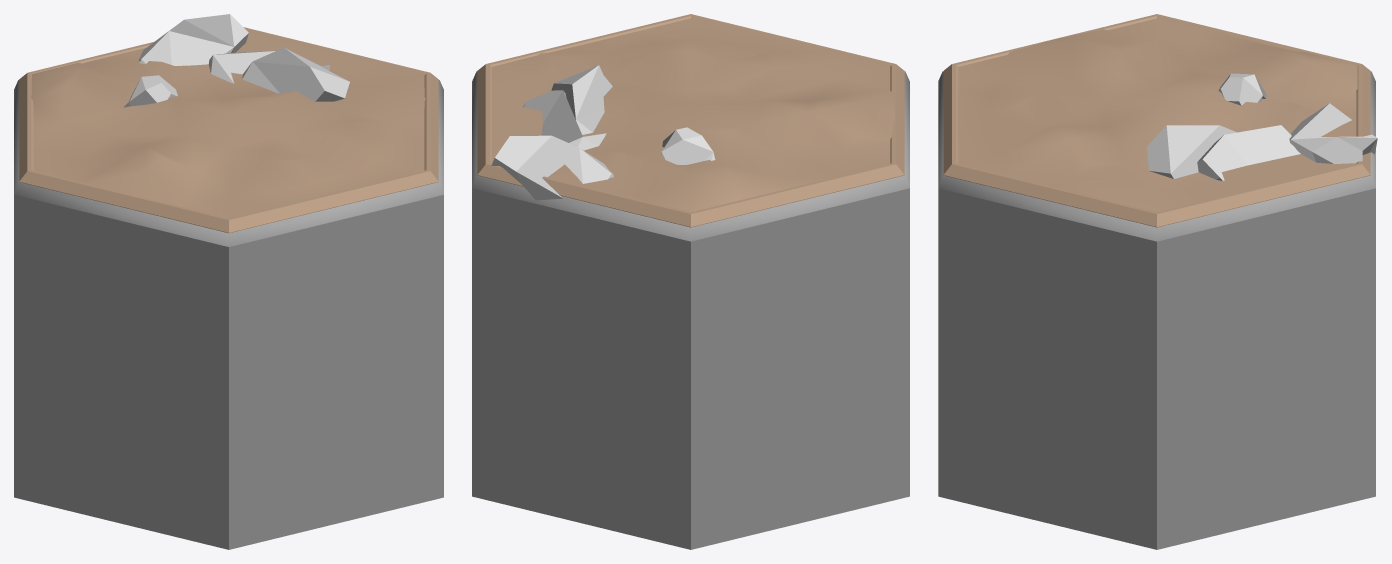
File: presentation_tile3.fbx
3 views of the same model, side by side, from view 1: azimuth 30°, elevation 25°; view 2: azimuth 150°, elevation 25°; view 3: azimuth 270°, elevation 25° (orthographic).
Visible parts, largest first — view 1: presentation_tile3; view 2: presentation_tile3; view 3: presentation_tile3.
Boxes of the visible parts, box(x1,y1,x2,y2) form: presentation_tile3: box(14, 14, 443, 549); presentation_tile3: box(472, 14, 909, 549); presentation_tile3: box(938, 14, 1377, 549).
Bounding box in the file's own units: 3.88 × 3.05 × 3.37.
